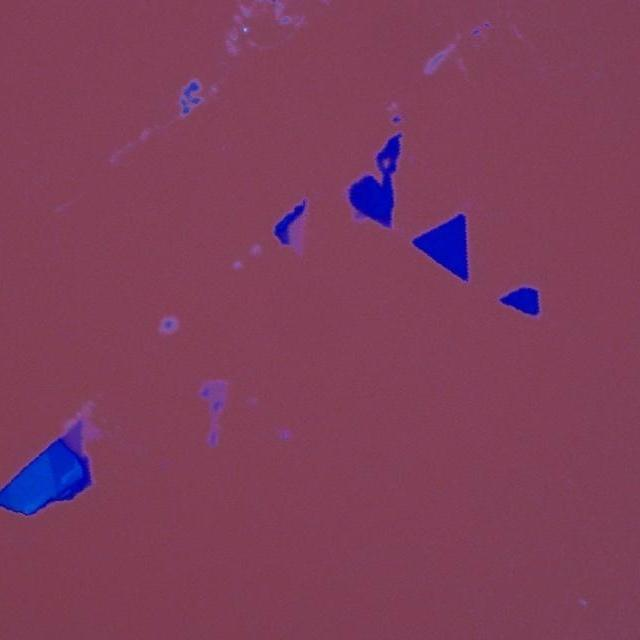monolayer-eWW4: (288, 214, 306, 253)
